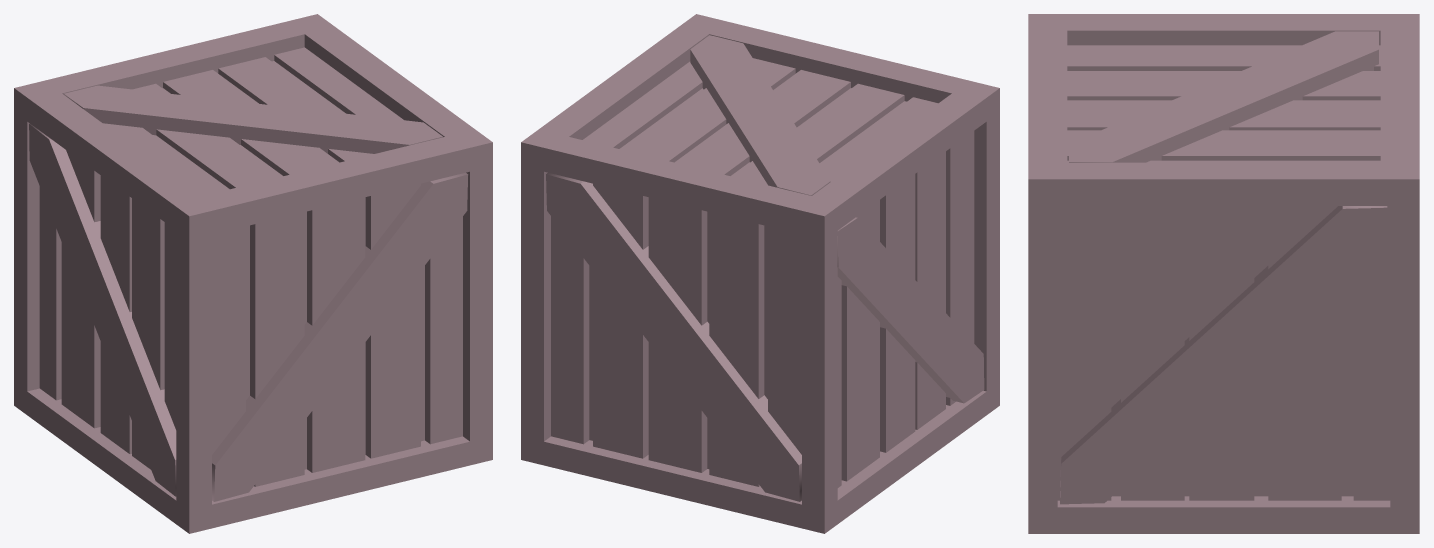
Rendered from crate.fbx.
3 views of the same model, side by side, from view 1: azimuth 30°, elevation 25°; view 2: azimuth 150°, elevation 25°; view 3: azimuth 270°, elevation 25° (orthographic). The views are drawn at different scales.
Visible parts, largest first — view 1: crate; view 2: crate; view 3: crate.
Part boxes in pixels (x1,y1,x2,y2): crate: [14, 14, 492, 533]; crate: [521, 14, 999, 533]; crate: [1028, 14, 1419, 533].
Bounding box in the file's own units: 12.13 × 12.13 × 12.13.
